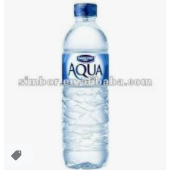Bottle: (63, 3, 111, 170)
